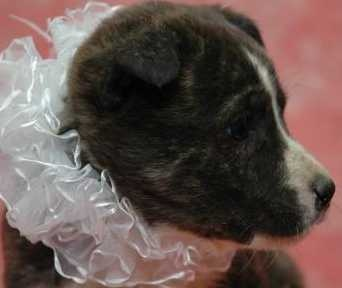dog: (32, 13, 339, 269)
